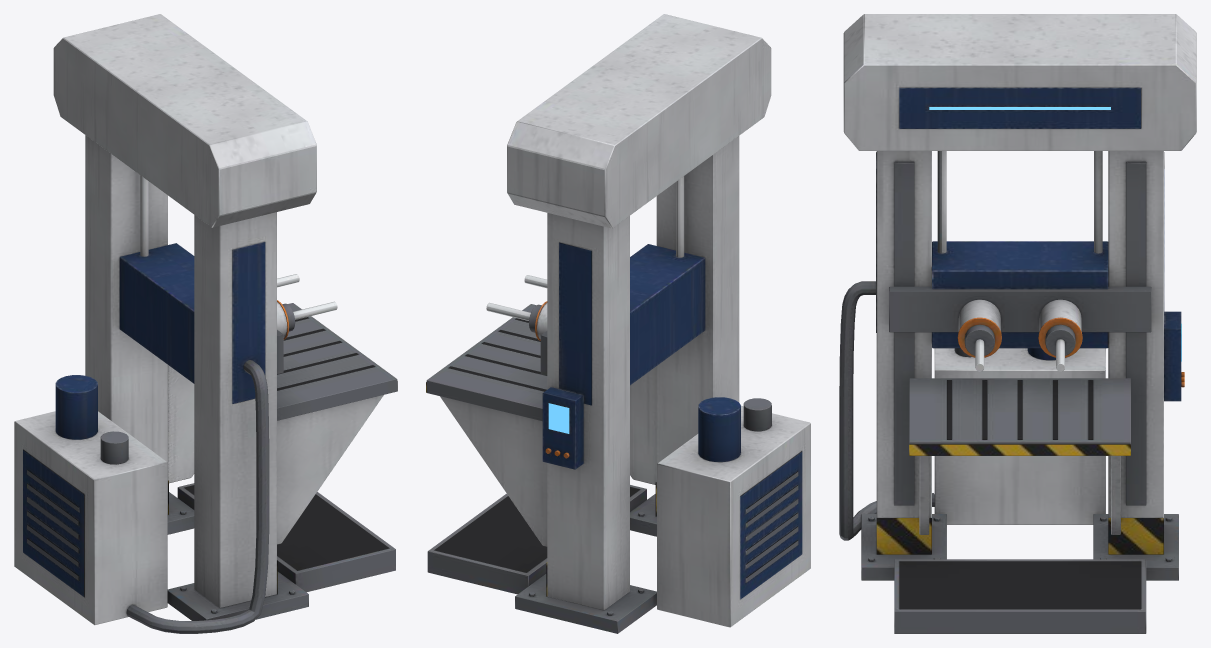
The model's file is 整備庫_34_加工站.glb.
The picture shows the model from 3 angles, left to right: view 1: azimuth 30°, elevation 25°; view 2: azimuth 150°, elevation 25°; view 3: azimuth 270°, elevation 25°; orthographic projection. The views are drawn at different scales.
Visible parts, largest first — view 1: Station_Mesh; view 2: Station_Mesh; view 3: Station_Mesh.
Boxes of the visible parts, x1,y1,x2,y2 form: Station_Mesh: [14, 14, 397, 633]; Station_Mesh: [426, 14, 810, 633]; Station_Mesh: [839, 14, 1196, 633].
Bounding box in the file's own units: 7.14 × 11.3 × 7.09.
Materials: 2 (1 with a texture image).
